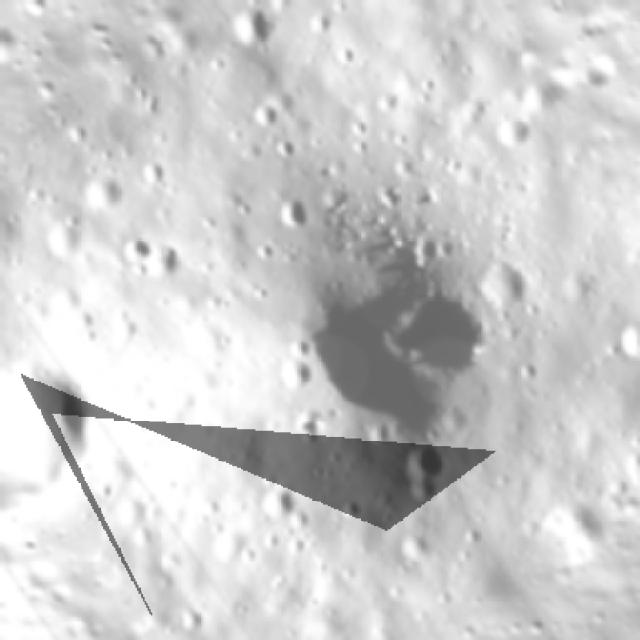crater: (365, 266, 517, 417), (382, 432, 466, 516), (72, 165, 134, 227), (220, 0, 282, 60), (248, 478, 303, 531), (268, 349, 321, 402), (485, 108, 538, 160), (603, 307, 640, 373), (390, 524, 438, 573), (297, 2, 343, 47), (272, 195, 317, 240), (240, 94, 286, 138), (132, 154, 174, 198), (100, 305, 142, 347), (332, 493, 370, 532), (63, 307, 102, 345), (114, 230, 154, 267), (454, 518, 492, 556), (133, 88, 173, 124), (171, 602, 206, 640), (338, 116, 374, 152), (200, 49, 235, 85), (369, 87, 405, 121), (265, 134, 300, 168), (195, 489, 227, 525), (324, 40, 358, 72), (229, 191, 260, 224), (57, 211, 88, 243), (62, 119, 92, 152), (249, 237, 280, 266), (230, 543, 259, 572), (125, 257, 153, 285), (618, 447, 640, 478), (90, 479, 116, 504), (125, 81, 152, 104)
